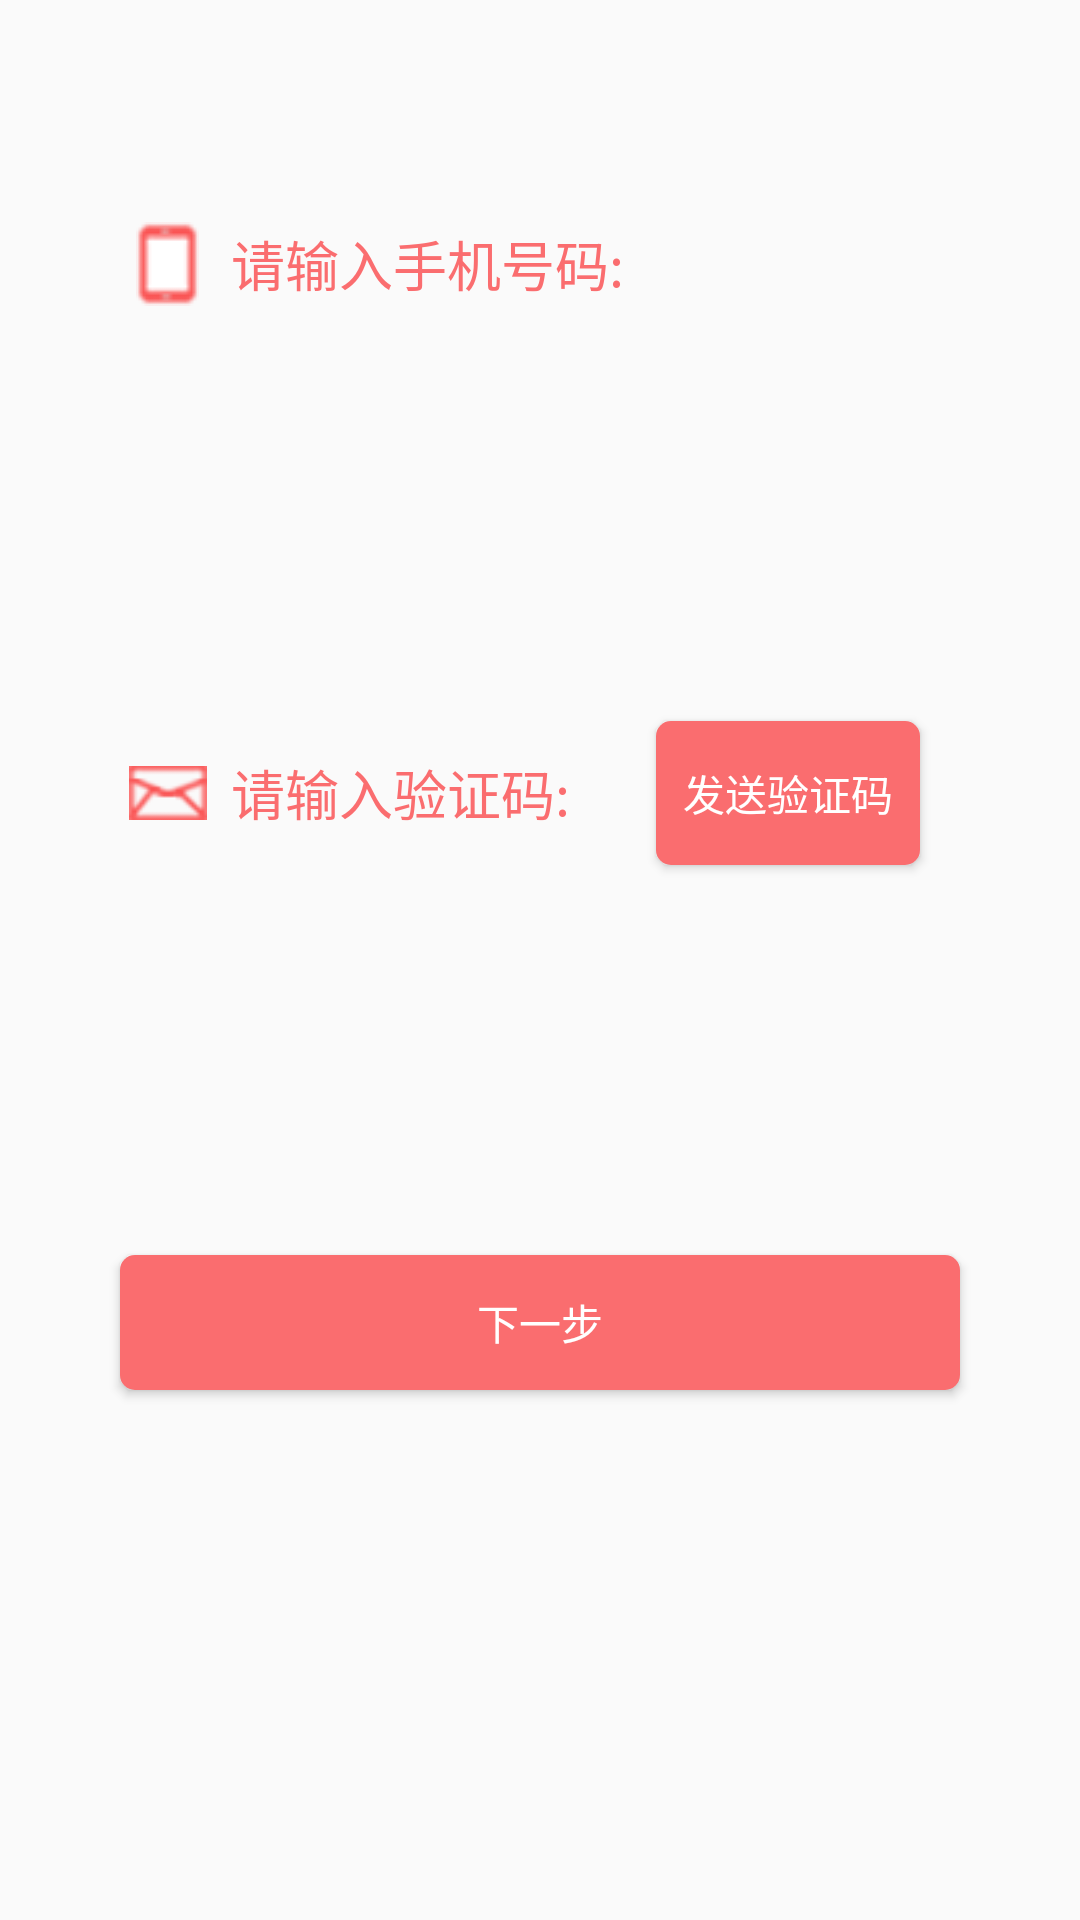

Named icons in this screenshot (1080 x 1920) and their centers, point (x, y):
message: point (168, 793)
phone: point (167, 264)
